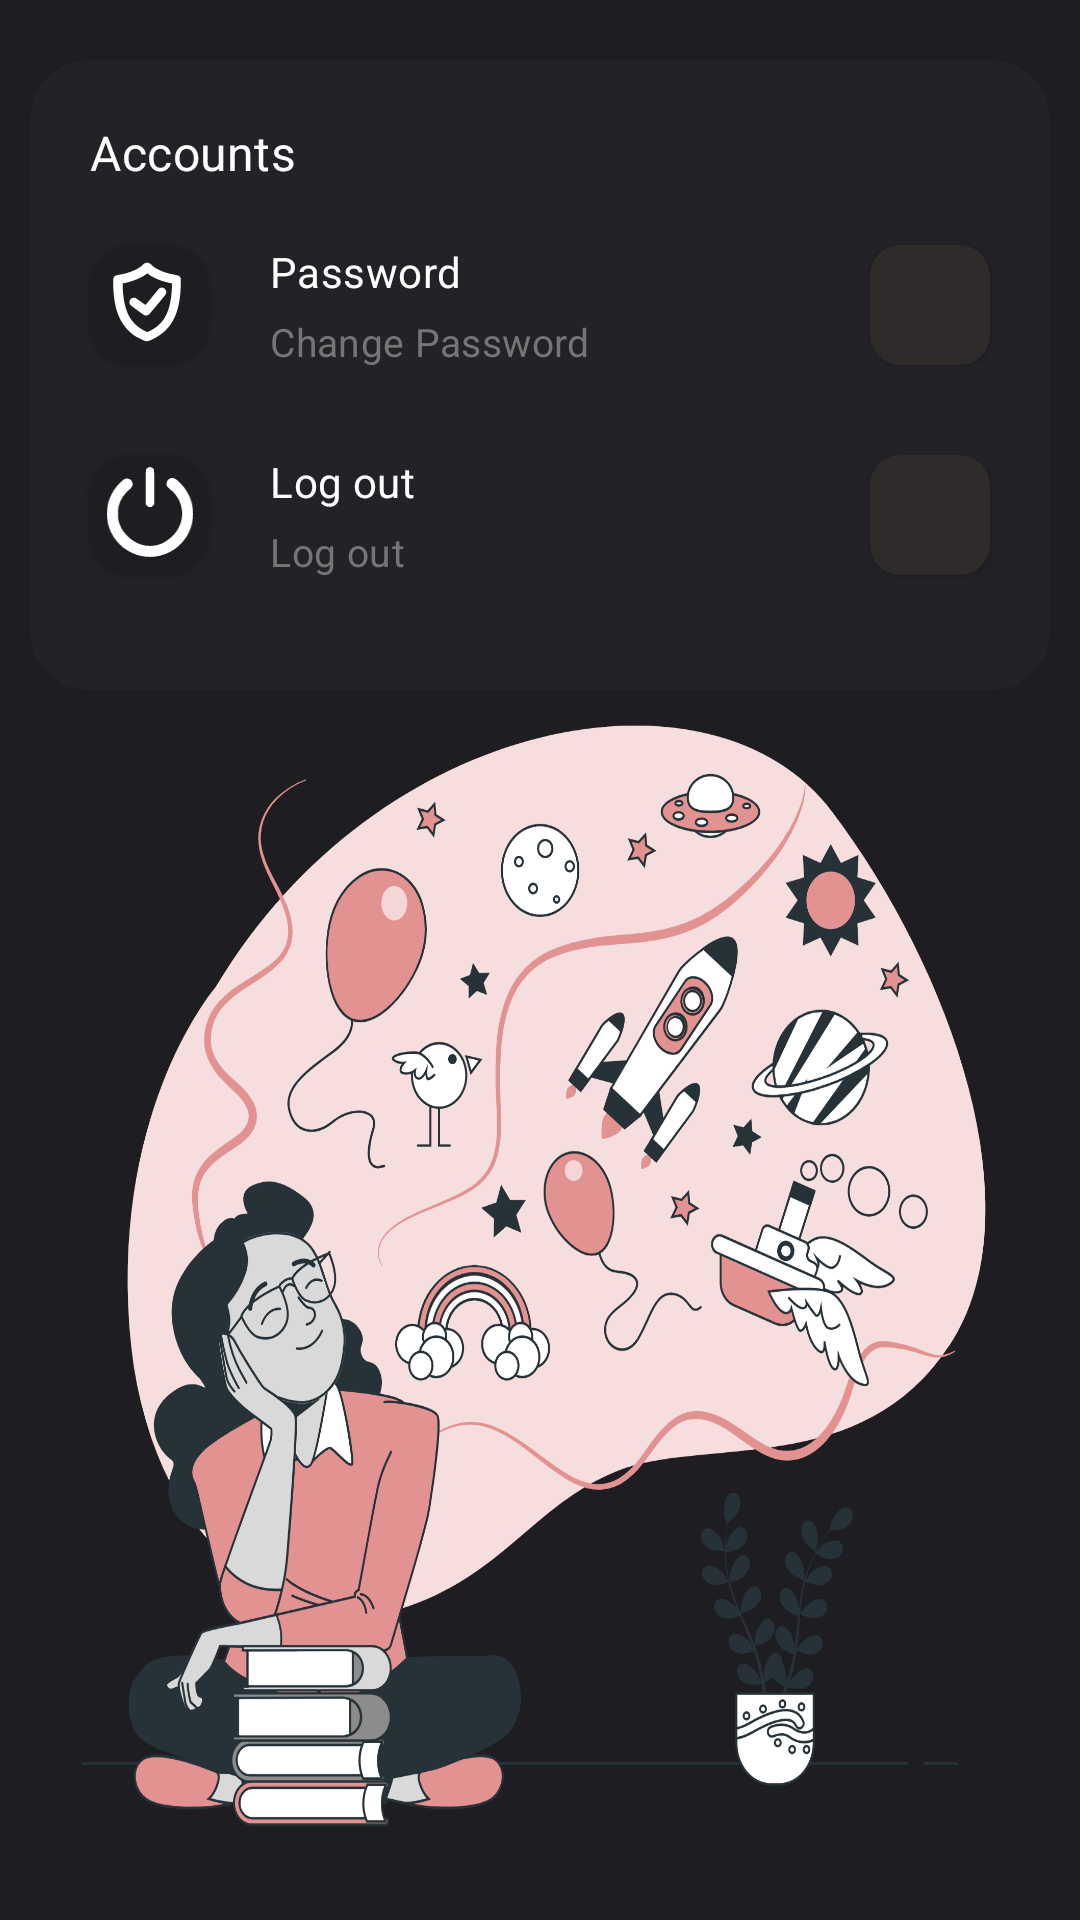

Point at icon controls on the screen. Image size 1080w x 1920h, points as point (x, y).
signout: point (150, 512)
